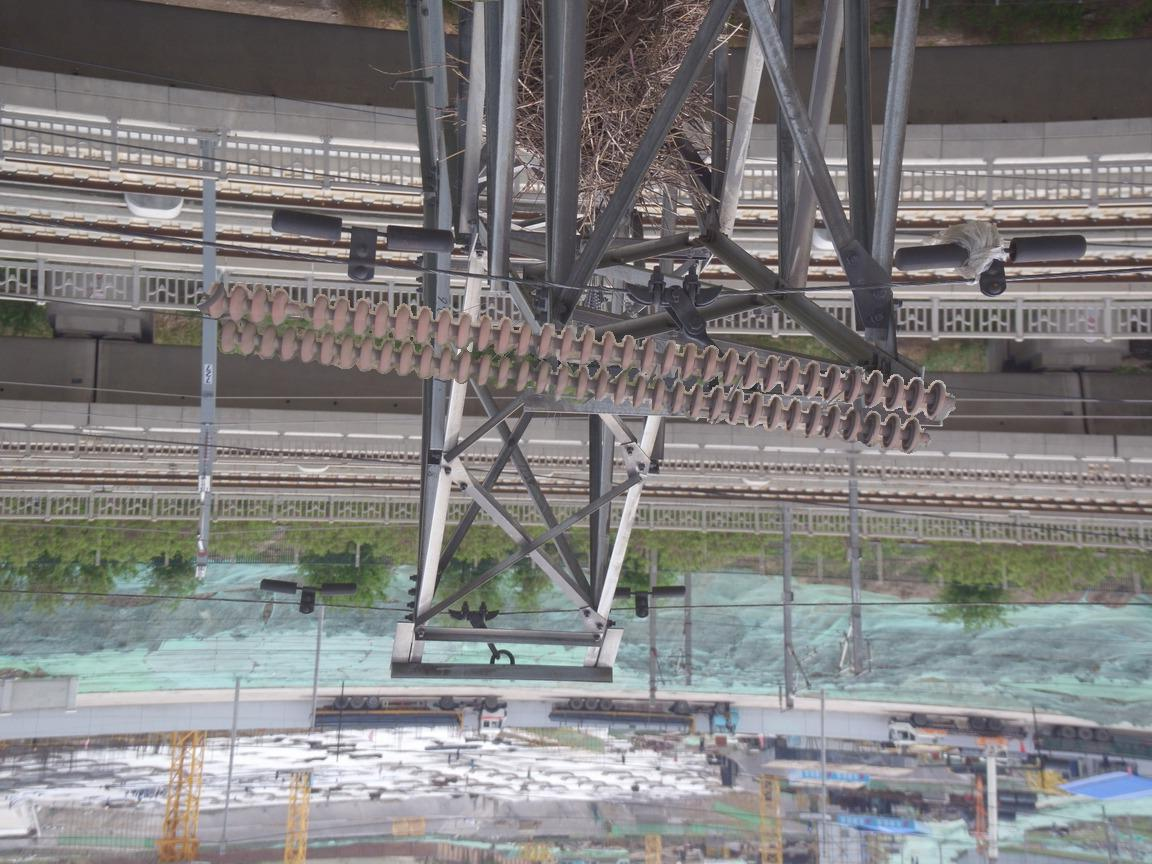insulator: (202, 277, 956, 458)
insulator_stringdrop: (266, 286, 333, 333)
